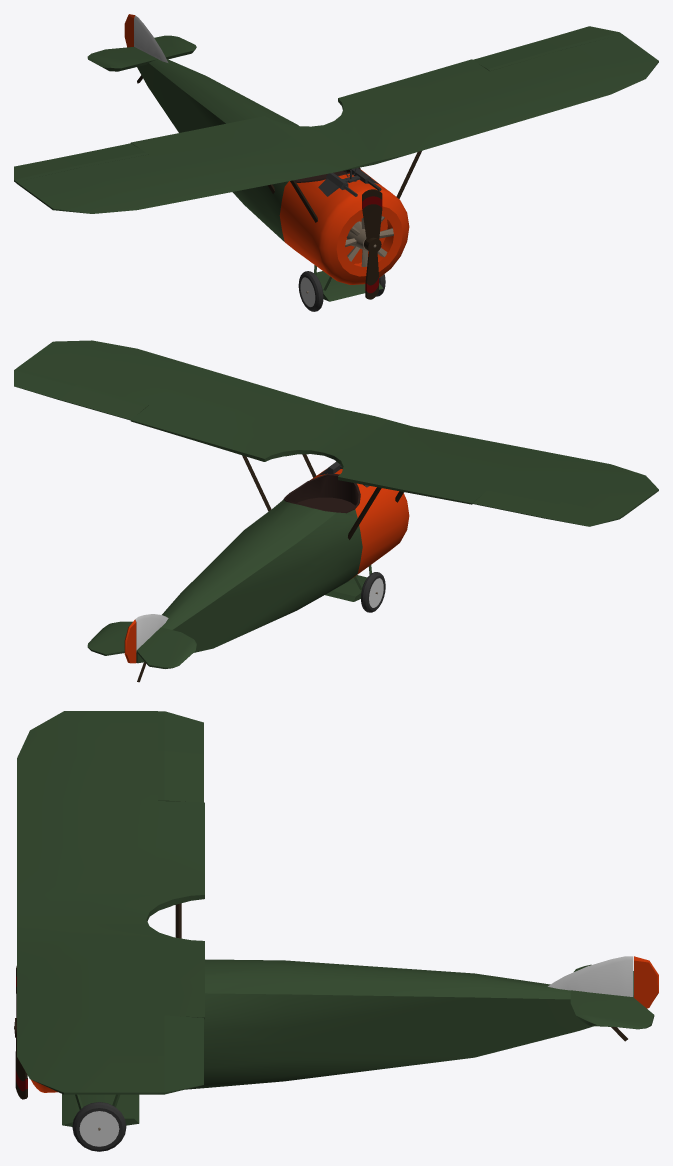
The model's file is Sopwith Swallow.fbx.
3 views of the same model, one above another, from view 1: azimuth 30°, elevation 25°; view 2: azimuth 150°, elevation 25°; view 3: azimuth 270°, elevation 25° (orthographic). The views are drawn at different scales.
Visible parts, largest first — view 1: Plane Body, Aerilion.003, Aerilion.002, Prop, Wheel; view 2: Plane Body, Aerilion.003, Aerilion.002, Wheel; view 3: Plane Body, Aerilion.002, Aerilion.003, Wheel.001, Rudder.
Boxes of the visible parts, x1=… form: Plane Body: x1=16, y1=15, x2=658, y2=301; Aerilion.003: x1=473, y1=26, x2=621, y2=71; Aerilion.002: x1=14, y1=143, x2=148, y2=182; Prop: x1=362, y1=189, x2=382, y2=299; Wheel: x1=298, y1=271, x2=323, y2=311; Plane Body: x1=17, y1=340, x2=658, y2=682; Aerilion.003: x1=14, y1=368, x2=148, y2=420; Aerilion.002: x1=472, y1=488, x2=622, y2=526; Wheel: x1=361, y1=572, x2=385, y2=612; Plane Body: x1=17, y1=711, x2=654, y2=1126; Aerilion.002: x1=158, y1=711, x2=203, y2=802; Aerilion.003: x1=158, y1=1015, x2=203, y2=1094; Wheel.001: x1=72, y1=1102, x2=126, y2=1151; Rudder: x1=634, y1=956, x2=658, y2=1008.
Size of the model in its own units: 1339 by 376 by 956.
